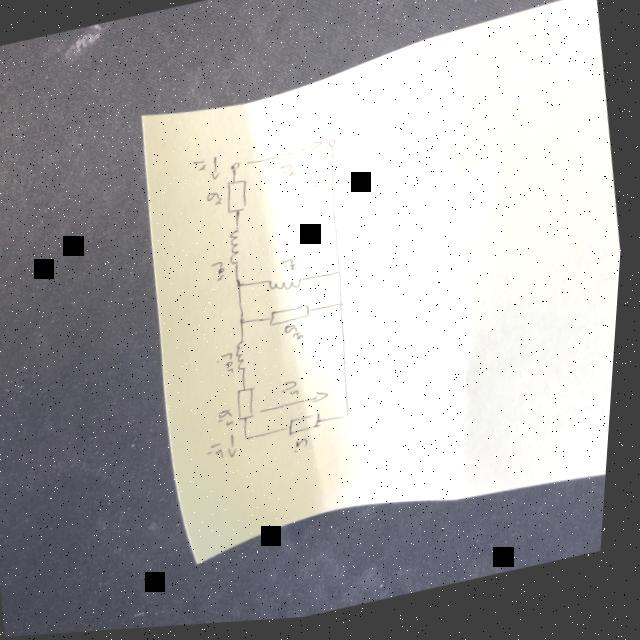inductor: (267, 278, 310, 299), (228, 232, 247, 270), (236, 344, 254, 376)
junction: (345, 418, 356, 426), (241, 322, 251, 330), (236, 285, 245, 293), (247, 438, 257, 445), (340, 306, 349, 313), (338, 275, 347, 281)
resistor: (271, 307, 316, 331), (226, 182, 254, 218), (238, 391, 263, 426), (291, 417, 328, 440)
terminal: (230, 165, 244, 178), (326, 142, 339, 155)
text: (218, 355, 241, 380), (286, 326, 310, 348), (220, 412, 241, 432), (210, 446, 231, 466), (212, 264, 229, 287), (284, 384, 304, 403), (281, 261, 302, 278), (207, 194, 226, 211), (280, 166, 298, 183), (297, 443, 315, 458), (193, 162, 210, 177)
